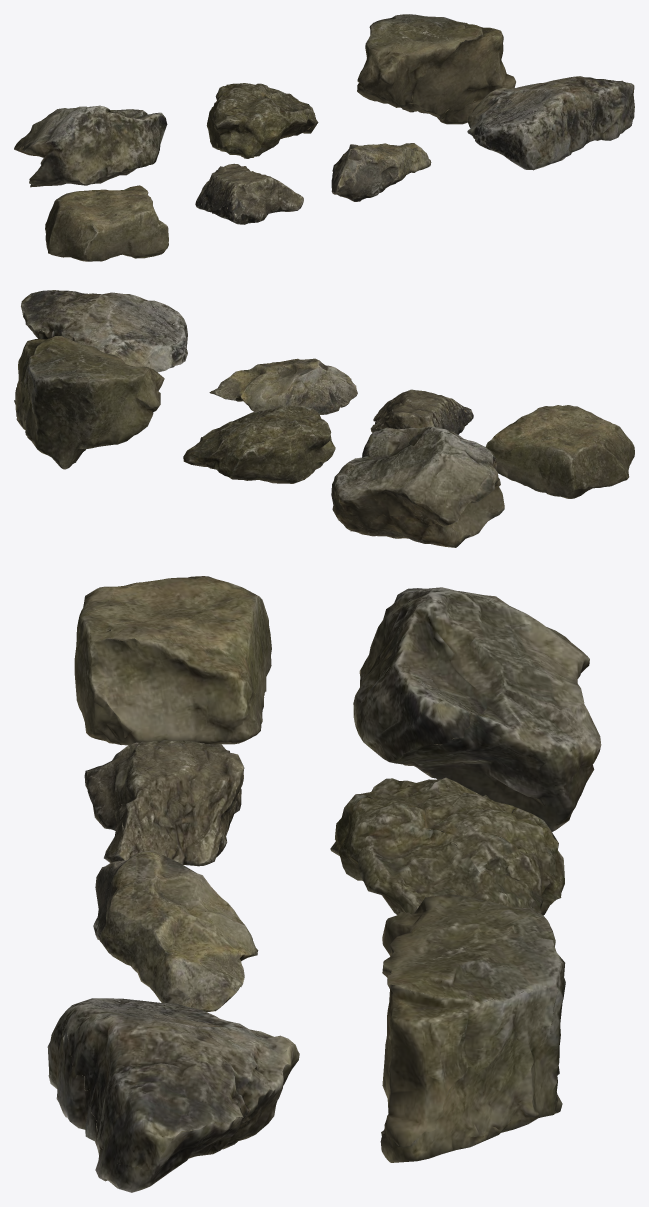
Rendered from rock_moss_set_02.glb.
3 views of the same model, one above another, from view 1: azimuth 30°, elevation 25°; view 2: azimuth 150°, elevation 25°; view 3: azimuth 270°, elevation 25° (orthographic). The views are drawn at different scales.
Visible parts, largest first — view 1: rock_moss_set_02_rock13, rock_moss_set_02_rock10, rock_moss_set_02_rock11, rock_moss_set_02_rock07, rock_moss_set_02_rock12, rock_moss_set_02_rock08, rock_moss_set_02_rock09; view 2: rock_moss_set_02_rock11, rock_moss_set_02_rock13, rock_moss_set_02_rock07, rock_moss_set_02_rock10, rock_moss_set_02_rock12, rock_moss_set_02_rock09, rock_moss_set_02_rock08; view 3: rock_moss_set_02_rock13, rock_moss_set_02_rock11, rock_moss_set_02_rock10, rock_moss_set_02_rock07, rock_moss_set_02_rock12, rock_moss_set_02_rock09, rock_moss_set_02_rock08.
Part boxes in pixels (x1,y1,x2,y2): rock_moss_set_02_rock13: (357,14,515,124); rock_moss_set_02_rock10: (467,76,634,170); rock_moss_set_02_rock11: (14,105,167,187); rock_moss_set_02_rock07: (45,185,168,261); rock_moss_set_02_rock12: (206,83,318,158); rock_moss_set_02_rock08: (195,163,303,224); rock_moss_set_02_rock09: (331,143,431,201); rock_moss_set_02_rock11: (331,426,504,547); rock_moss_set_02_rock13: (14,336,164,469); rock_moss_set_02_rock07: (485,405,634,498); rock_moss_set_02_rock10: (21,290,187,372); rock_moss_set_02_rock12: (183,405,335,483); rock_moss_set_02_rock09: (209,358,357,414); rock_moss_set_02_rock08: (370,389,473,434); rock_moss_set_02_rock13: (380,894,565,1162); rock_moss_set_02_rock11: (353,587,601,831); rock_moss_set_02_rock10: (47,998,299,1192); rock_moss_set_02_rock07: (74,576,271,745); rock_moss_set_02_rock12: (330,777,564,915); rock_moss_set_02_rock09: (93,850,258,1012); rock_moss_set_02_rock08: (84,740,244,866).
Bounding box in the file's own units: 8.28 × 1.36 × 3.41.
Materials: 1 (1 with a texture image).
